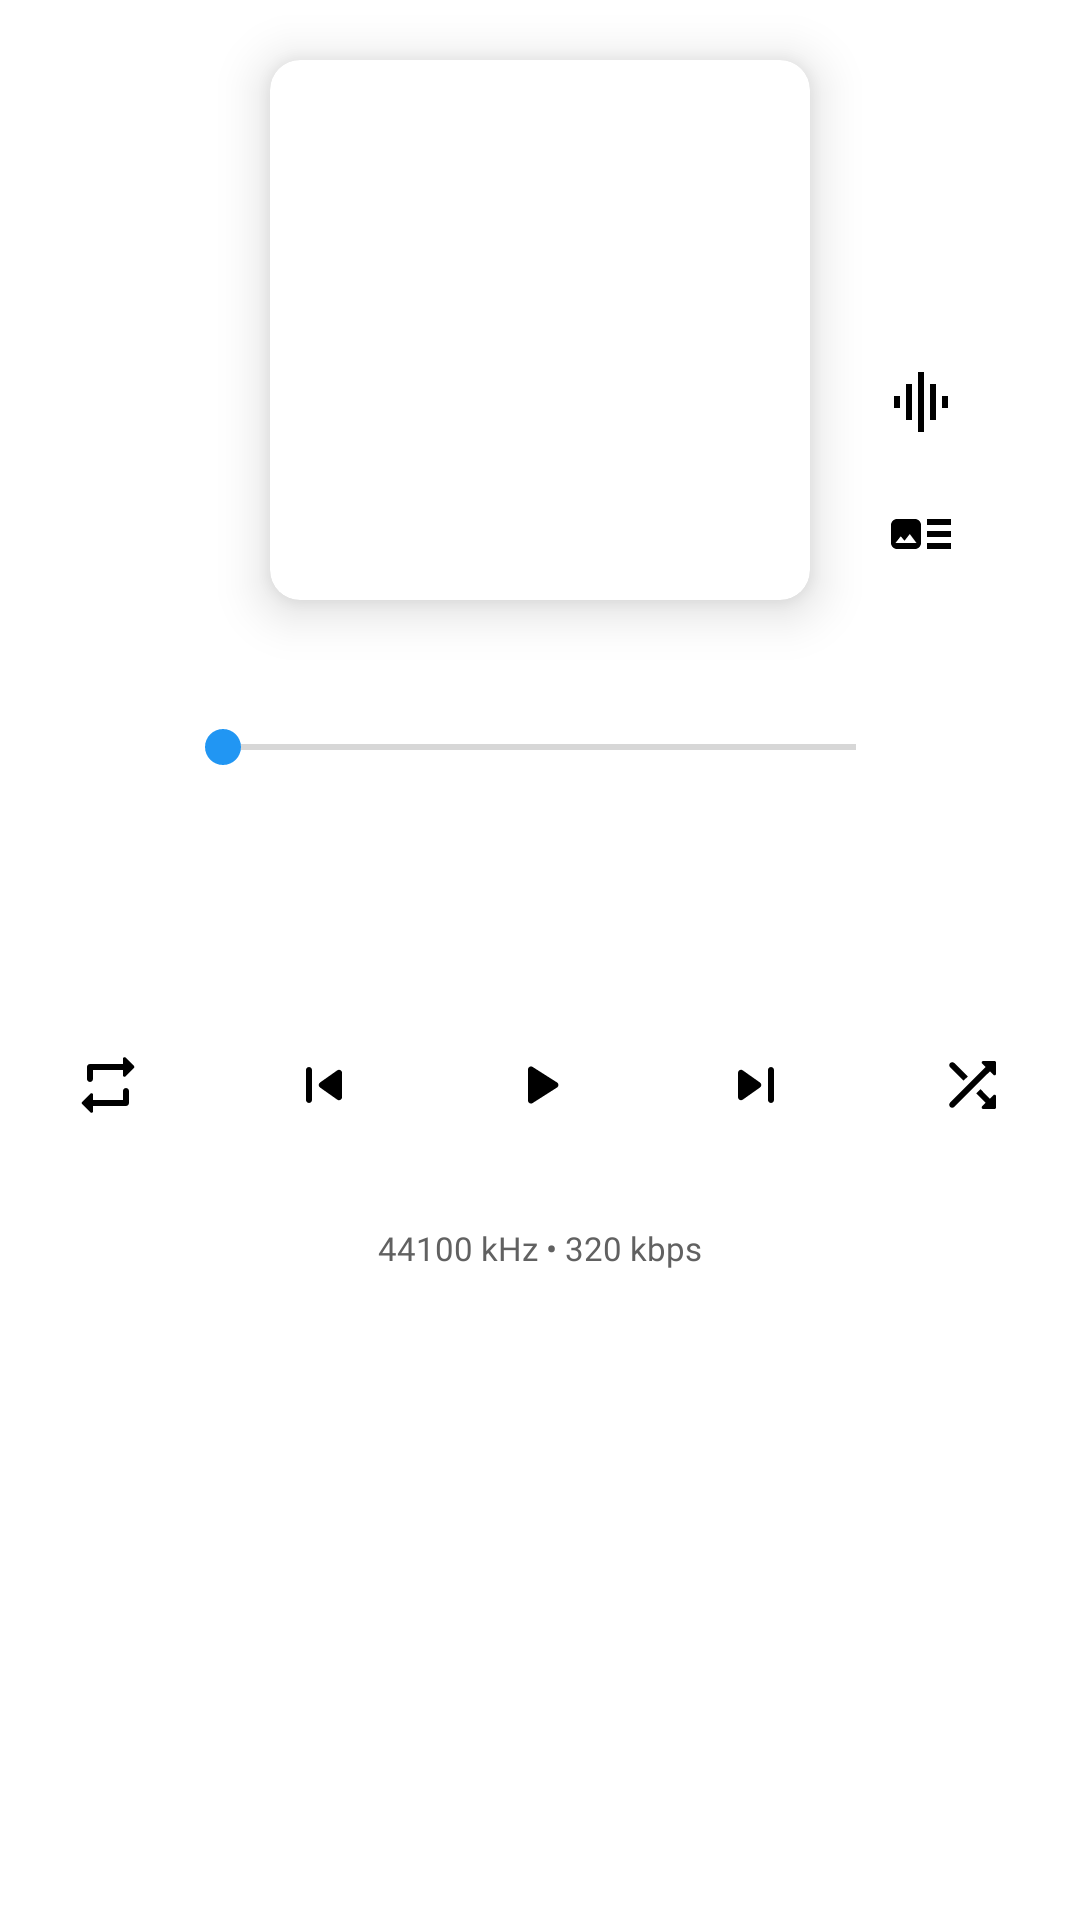

Point at icon controls on the screen. Image size 1080px×1920px, points as (x=x, y=y).
controls next: (x=756, y=1085)
controls play: (x=543, y=1085)
controls prev: (x=324, y=1085)
controls repeat: (x=108, y=1085)
controls shuffle: (x=972, y=1085)
edit metadata: (x=921, y=534)
equalizer: (x=921, y=402)
